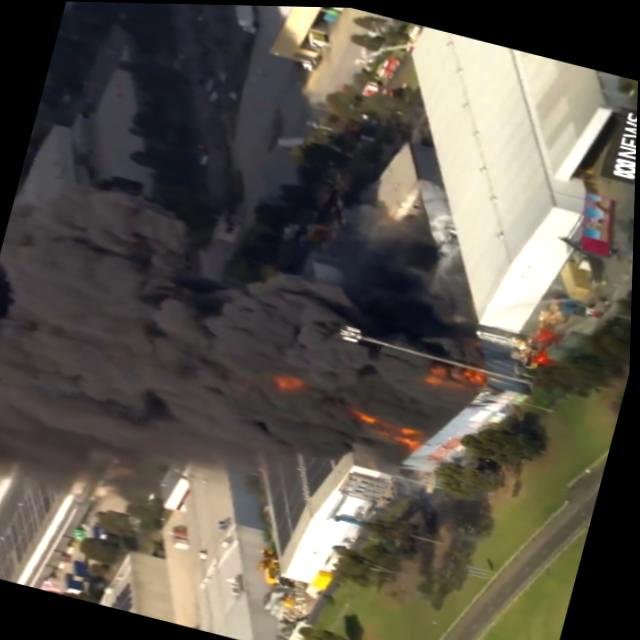fire: (338, 404, 426, 448), (419, 346, 486, 394), (266, 354, 328, 402)
